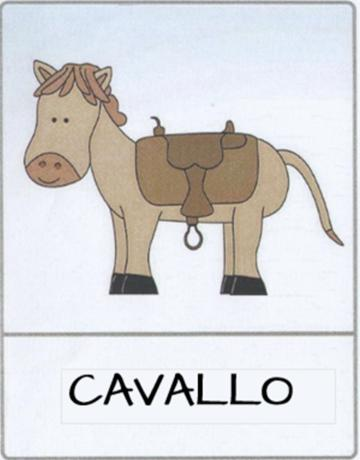cavallo: (1, 3, 359, 460)
